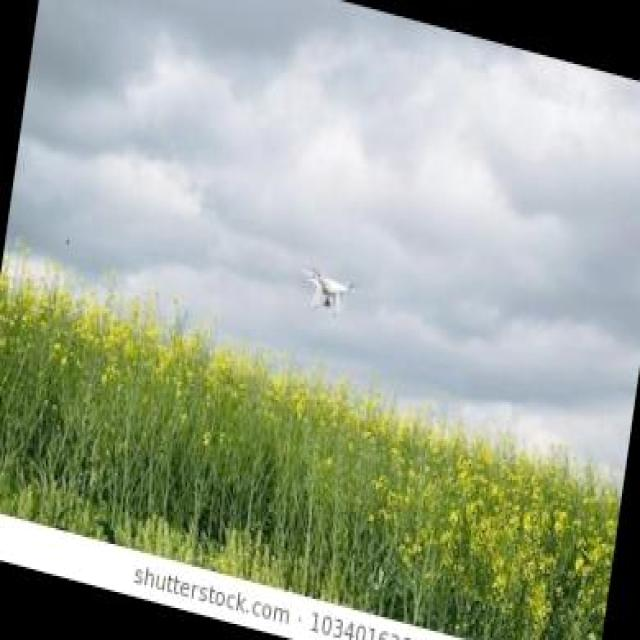drone: (294, 256, 357, 322)
